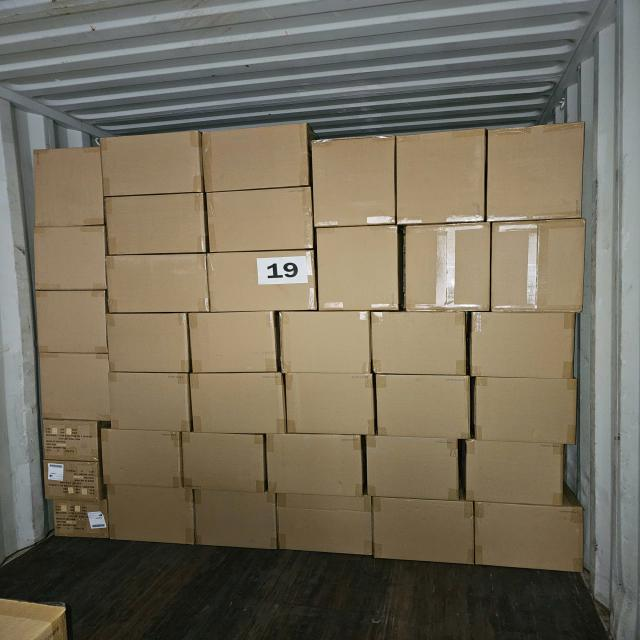Carton: (492, 120, 588, 221), (494, 220, 588, 314), (397, 130, 484, 228), (473, 503, 583, 574), (404, 223, 490, 313), (313, 136, 396, 229), (472, 312, 580, 381), (316, 227, 399, 314), (207, 120, 310, 190), (472, 377, 577, 445), (205, 188, 310, 254), (374, 499, 474, 566), (206, 250, 313, 312), (464, 441, 566, 506), (103, 134, 202, 199), (372, 311, 470, 376), (108, 254, 211, 315), (377, 374, 472, 440), (106, 192, 206, 254), (266, 431, 363, 494), (368, 436, 460, 502), (191, 374, 287, 437), (278, 313, 370, 378), (287, 374, 377, 439), (33, 149, 103, 230), (276, 499, 371, 558), (190, 312, 279, 374), (44, 461, 109, 544), (107, 487, 195, 548), (181, 433, 265, 495), (107, 373, 190, 435), (38, 352, 110, 423), (108, 313, 191, 374), (194, 492, 276, 553), (33, 226, 106, 294), (102, 430, 184, 489), (35, 291, 107, 357), (42, 418, 101, 462), (46, 499, 108, 539)
